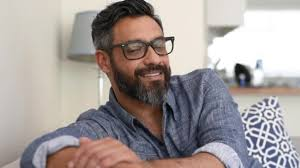middle_eastern_male: (108, 11, 177, 100)
